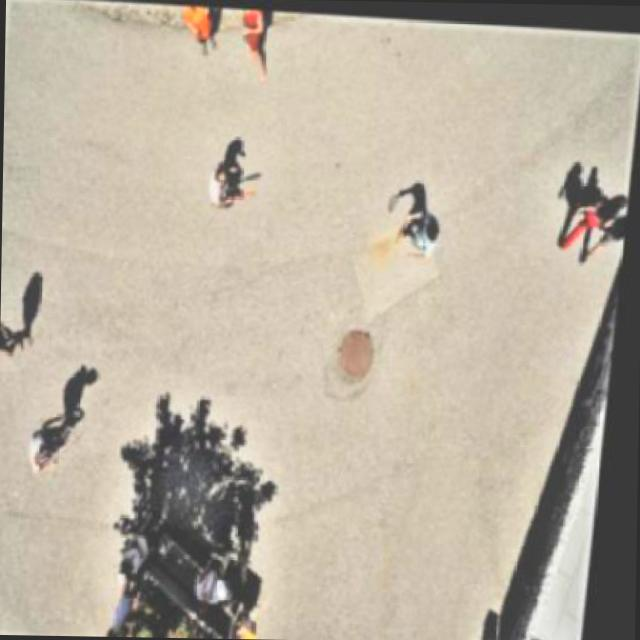Person: (396, 198, 454, 260), (32, 416, 82, 484), (235, 7, 278, 82), (0, 308, 44, 366), (207, 154, 247, 217), (182, 4, 224, 58)
